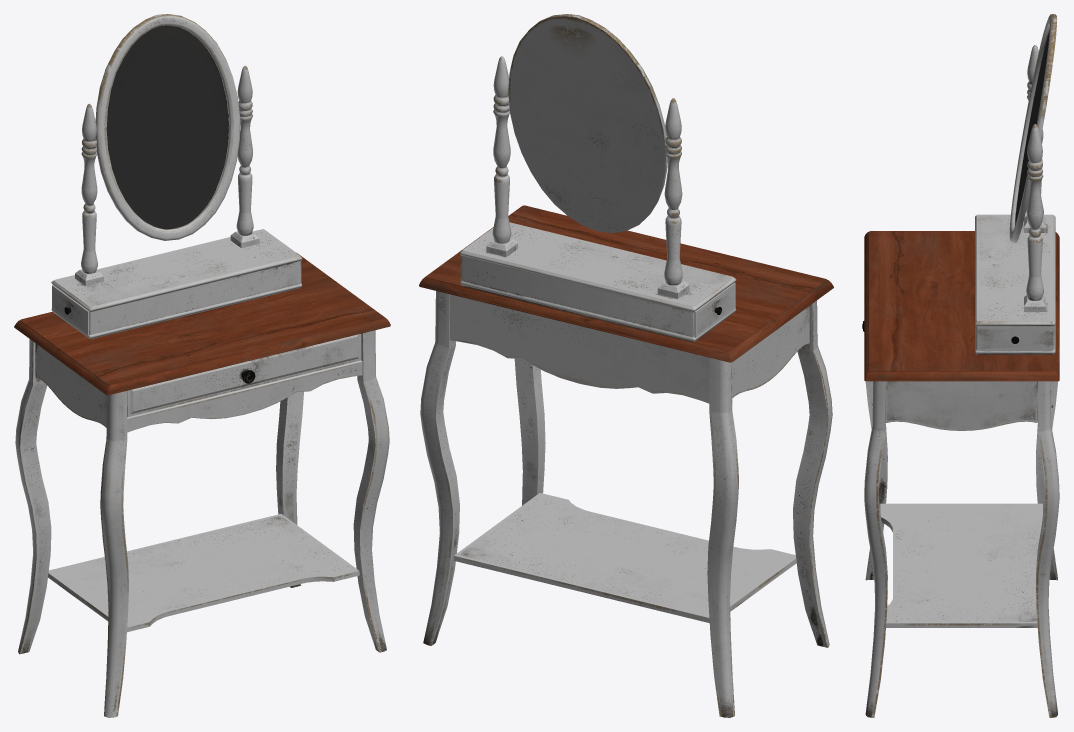
The model's file is cosmetic table.FBX.
The picture shows the model from 3 angles, left to right: view 1: azimuth 30°, elevation 25°; view 2: azimuth 150°, elevation 25°; view 3: azimuth 270°, elevation 25°; orthographic projection. The views are drawn at different scales.
Parts seen in each view (by area): view 1: Cosmetic table; view 2: Cosmetic table; view 3: Cosmetic table.
Boxes of the visible parts, left/top/right/bottom form: Cosmetic table: left=14, top=14, right=390, bottom=717; Cosmetic table: left=419, top=14, right=833, bottom=717; Cosmetic table: left=862, top=14, right=1059, bottom=717.
Size of the model in its own units: 67.44 by 136 by 38.87.
1 material, 1 textured.
